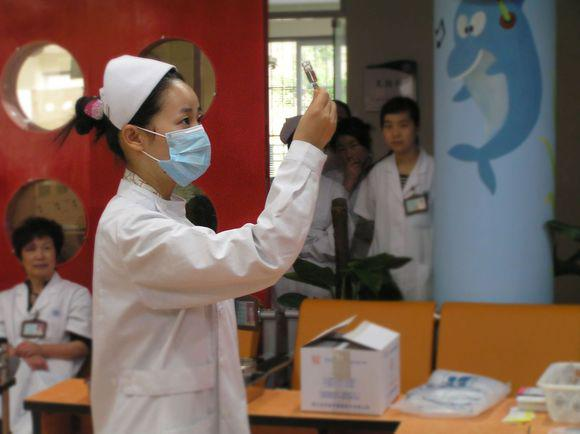NONE: (24, 243, 56, 276), (383, 117, 412, 149), (341, 138, 365, 170)
OK: (139, 103, 213, 184)
